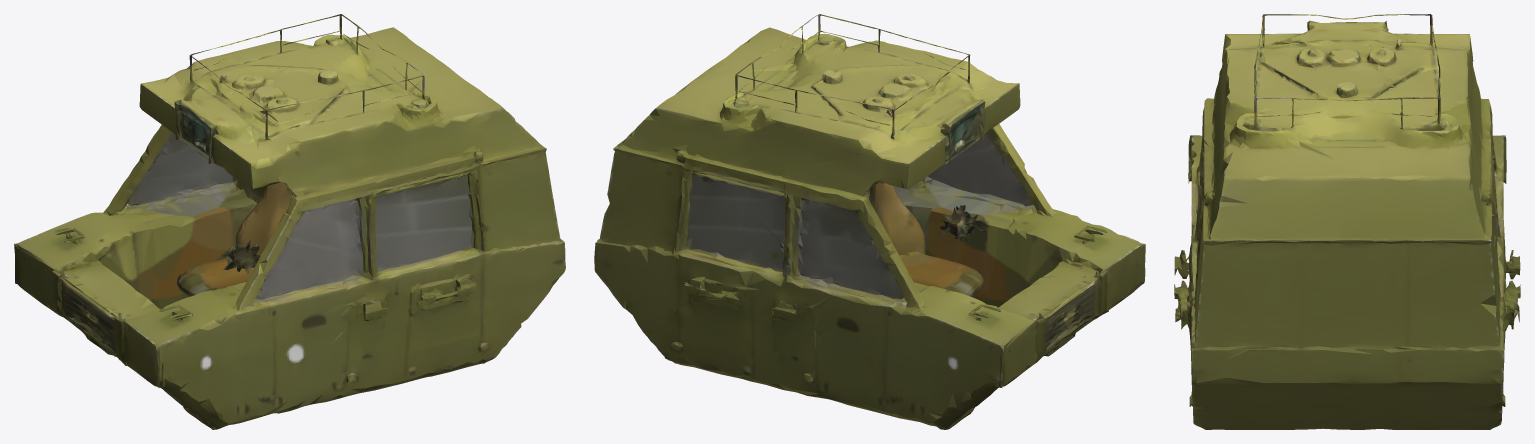
File: centurion_cockpit.glb
3 views of the same model, side by side, from view 1: azimuth 30°, elevation 25°; view 2: azimuth 150°, elevation 25°; view 3: azimuth 270°, elevation 25° (orthographic). The views are drawn at different scales.
Visible parts, largest first — view 1: centurion_cockpit; view 2: centurion_cockpit; view 3: centurion_cockpit.
Part boxes in pixels (left/top/right/bottom): centurion_cockpit: left=14, top=14, right=565, bottom=429; centurion_cockpit: left=594, top=14, right=1145, bottom=429; centurion_cockpit: left=1174, top=14, right=1520, bottom=429.
Size of the model in its own units: 1.89 by 1.25 by 1.24.
Materials: 1 (1 with a texture image).
